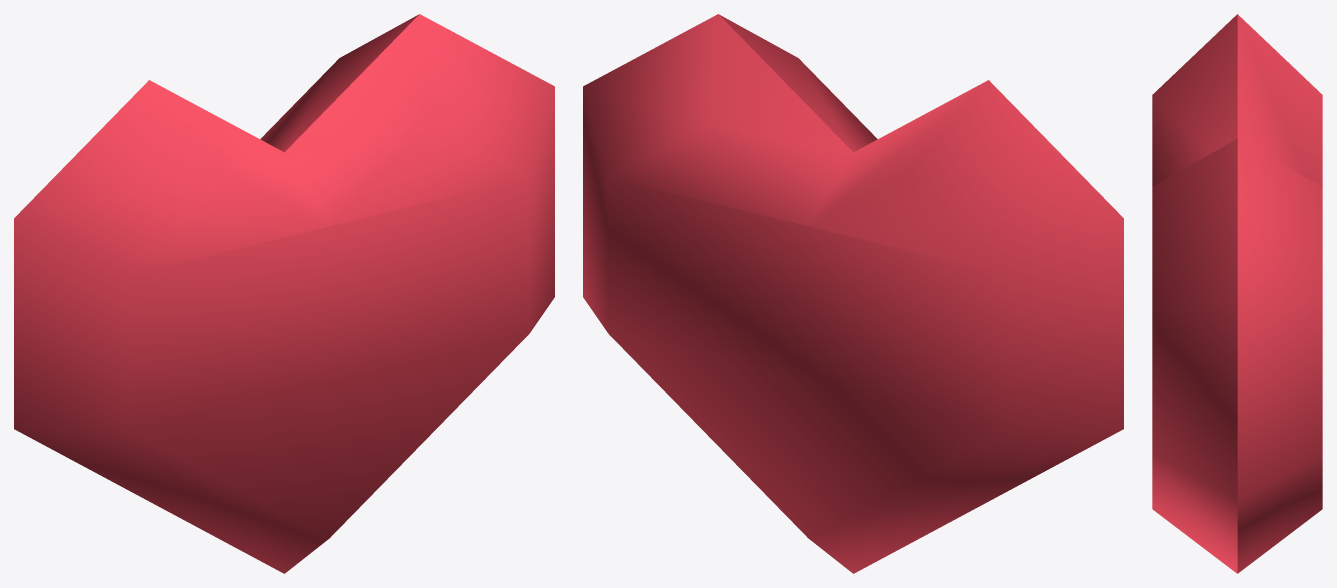
The model's file is heart.obj.
3 renders of one model, left to right at view 1: azimuth 30°, elevation 25°; view 2: azimuth 150°, elevation 25°; view 3: azimuth 270°, elevation 25°, orthographic. The views are drawn at different scales.
Visible parts, largest first — view 1: heart; view 2: heart; view 3: heart.
Boxes of the visible parts, <box> form: heart: <box>14,14,554,573</box>; heart: <box>583,14,1123,573</box>; heart: <box>1152,14,1322,573</box>.
Size of the model in its own units: 0.4122 by 0.3839 by 0.119.
